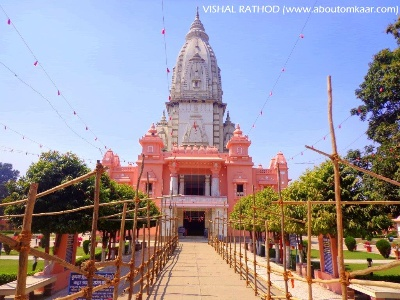gopuram: (149, 33, 243, 148)
